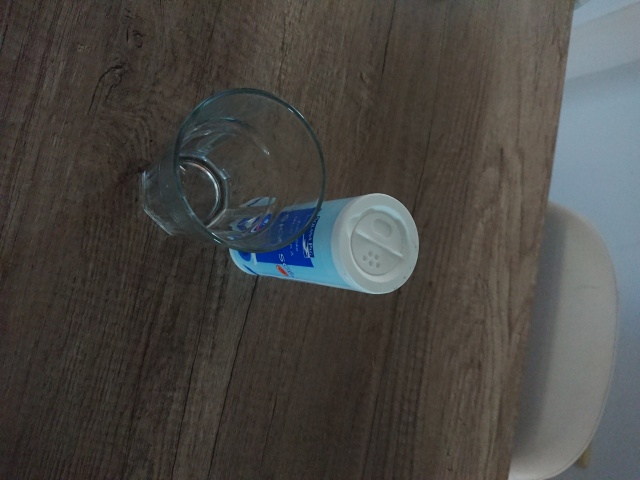Solana Pag Fine Sea Salt 250g: (225, 190, 422, 297)
